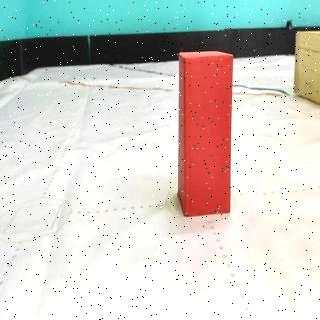redbox: (176, 50, 234, 216)
